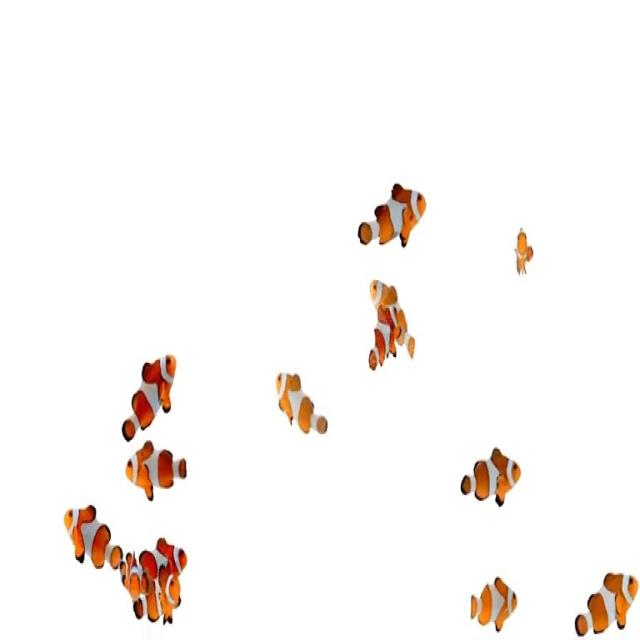fish: (119, 338, 184, 451), (358, 163, 428, 263), (457, 440, 529, 520), (571, 558, 640, 640), (62, 486, 122, 577), (119, 439, 195, 501), (370, 275, 428, 355), (461, 562, 522, 637), (276, 357, 331, 437), (367, 292, 403, 389), (133, 573, 195, 625), (141, 532, 189, 588), (510, 216, 540, 284), (120, 539, 140, 598)
